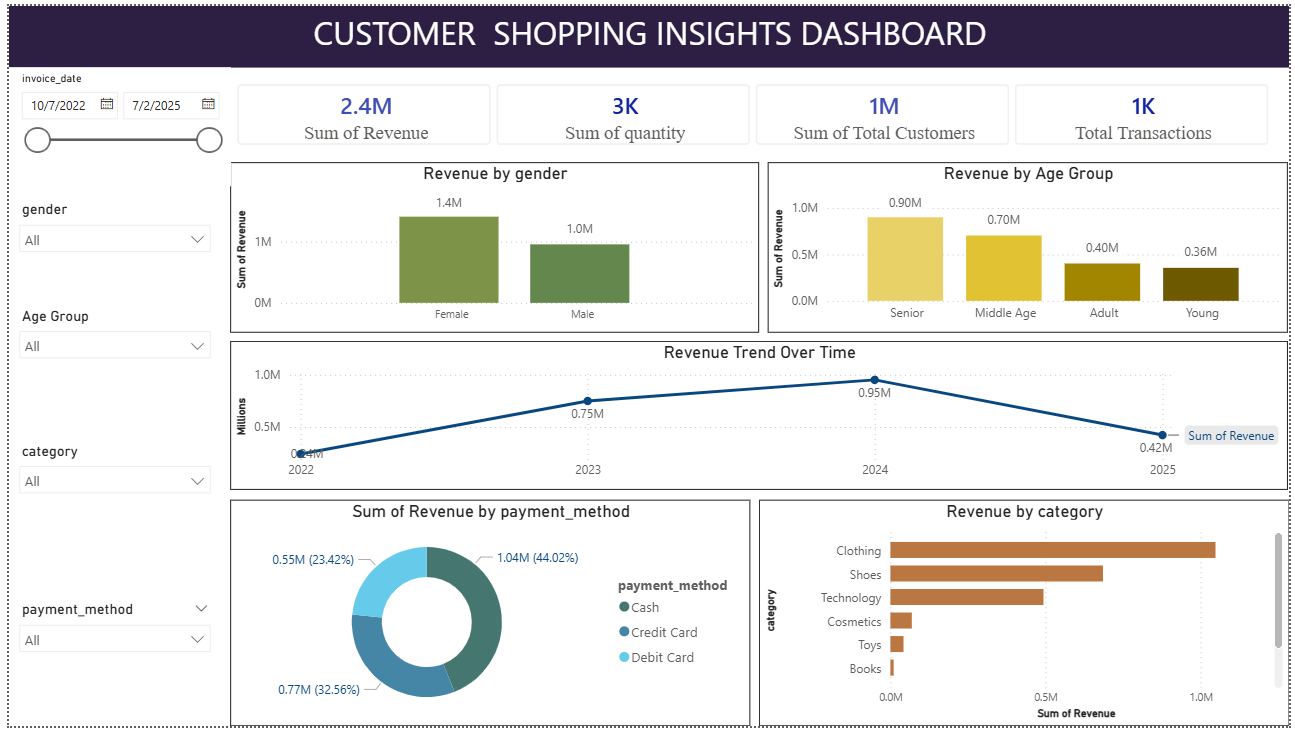

The dashboard page shown, as its layout file describes it:
{"tool":"powerbi","page":{"name":"Page 1","canvas":[1280,720],"ordinal":0},"visuals":[{"type":"lineClusteredColumnComboChart","title":"Revenue by gender","fields":{"Category":["customer_data.gender"],"Y":["Sum(customer_data.Revenue)"]},"box":[221.2,156.2,498.8,170],"z":0},{"type":"lineClusteredColumnComboChart","title":" Revenue by Age Group","fields":{"Category":["customer_data.Age Group"],"Y":["Sum(customer_data.Revenue)"]},"box":[743.8,156.2,536.2,170],"z":1000},{"type":"barChart","title":" Revenue by category","fields":{"Category":["customer_data.category"],"Y":["Sum(customer_data.Revenue)"]},"box":[743.8,493.8,536.2,226.2],"z":2000},{"type":"donutChart","fields":{"Category":["customer_data.payment_method"],"Y":["Sum(customer_data.Revenue)"]},"box":[221.2,493.8,498.8,226.2],"z":3000},{"type":"lineChart","title":"Revenue Trend Over Time","fields":{"Category":["customer_data.invoice_date.Variation.Date Hierarchy.Year","customer_data.invoice_date.Variation.Date Hierarchy.Quarter","customer_data.invoice_date.Variation.Date Hierarchy.Month","customer_data.invoice_date.Variation.Date Hierarchy.Day"],"Y":["Sum(customer_data.Revenue)"]},"box":[221.2,335,1057.5,148.8],"z":4000},{"type":"textbox","box":[0,0,1280,61.2],"z":5000},{"type":"cardVisual","fields":{"Data":["Sum(customer_data.Revenue)","Sum(customer_data.quantity)","Sum(customer_data.Total Customers)","customer_data.Total Transactions"]},"box":[221.3,61.1,1057.8,95.4],"z":6000},{"type":"slicer","fields":{"Values":["customer_data.gender"]},"box":[0,197.8,210.9,87.5],"z":7000},{"type":"slicer","fields":{"Values":["customer_data.Age Group"]},"box":[0,296.2,211.2,123.8],"z":8000},{"type":"slicer","fields":{"Values":["customer_data.category"]},"box":[0,431.2,211.2,148.8],"z":9000},{"type":"slicer","fields":{"Values":["customer_data.payment_method"]},"box":[0,590,211.2,130],"z":10000},{"type":"slicer","fields":{"Values":["customer_data.invoice_date"]},"box":[0,61.1,210.9,136.6],"z":11000}]}

Visuals, with their boxes in screenshot pixels (x1, y1, x2, y2), scaled from the page's 1280x720 canvas onto the 1295x733 screenshot:
"Revenue by gender" lineClusteredColumnComboChart: <bbox>224, 159, 728, 332</bbox>
" Revenue by Age Group" lineClusteredColumnComboChart: <bbox>753, 159, 1294, 332</bbox>
" Revenue by category" barChart: <bbox>753, 503, 1294, 732</bbox>
donutChart - customer_data.payment_method x Sum(customer_data.Revenue): <bbox>224, 503, 728, 732</bbox>
"Revenue Trend Over Time" lineChart: <bbox>224, 341, 1294, 493</bbox>
textbox: <bbox>0, 0, 1294, 62</bbox>
cardVisual - Sum(customer_data.Revenue) x Sum(customer_data.quantity): <bbox>224, 62, 1294, 159</bbox>
slicer - customer_data.gender: <bbox>0, 201, 213, 290</bbox>
slicer - customer_data.Age Group: <bbox>0, 302, 214, 428</bbox>
slicer - customer_data.category: <bbox>0, 439, 214, 590</bbox>
slicer - customer_data.payment_method: <bbox>0, 601, 214, 732</bbox>
slicer - customer_data.invoice_date: <bbox>0, 62, 213, 201</bbox>
